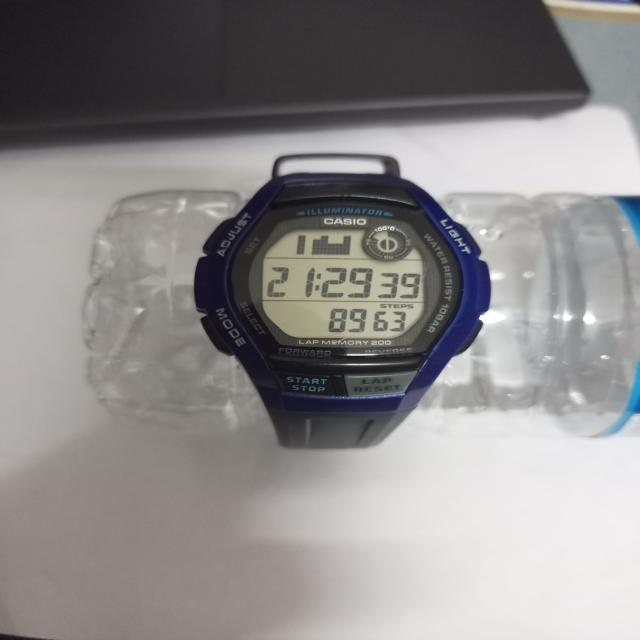watch: (195, 184, 487, 409)
